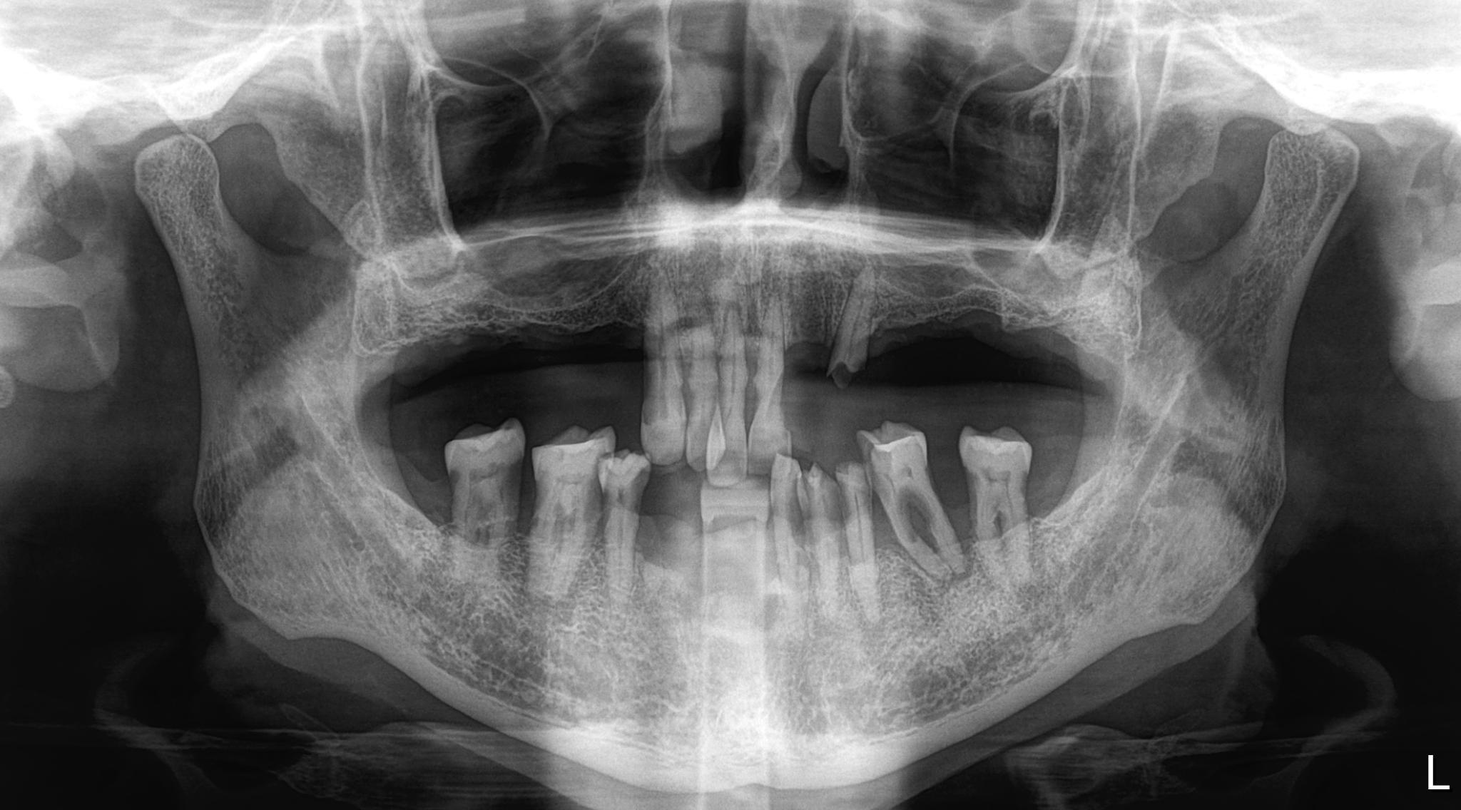Dental Caries: (897, 494, 941, 560)
Missing Tooth: (375, 431, 443, 541), (572, 299, 627, 404), (1027, 439, 1085, 538), (785, 276, 825, 410), (1031, 298, 1078, 397), (371, 298, 417, 399), (423, 298, 467, 399), (471, 303, 514, 393), (951, 289, 981, 414), (899, 287, 930, 406), (531, 298, 563, 396), (997, 294, 1022, 412)
Periapical Abnormality: (860, 463, 978, 567)
Periodontal Pocket: (535, 476, 599, 550), (451, 469, 511, 544), (968, 467, 1025, 544), (601, 487, 644, 563), (947, 504, 985, 581), (842, 480, 871, 570)
Retained Root: (826, 273, 881, 400)
